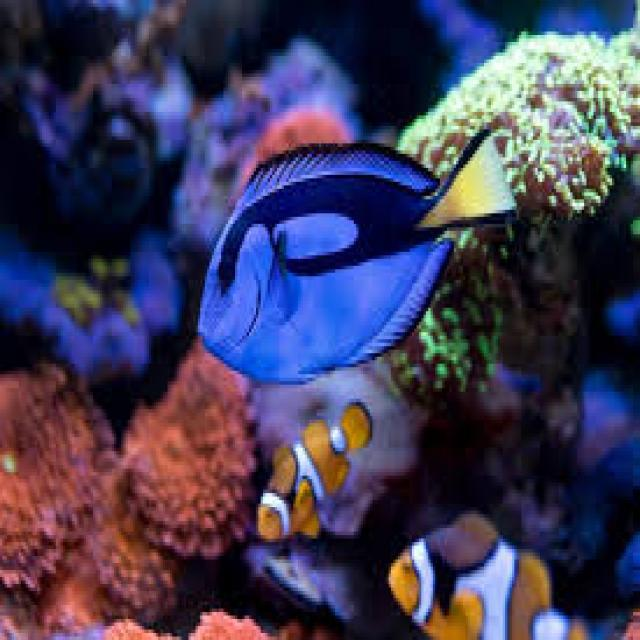BlueTang: (184, 114, 522, 401)
ClownFish: (391, 511, 583, 640), (261, 408, 375, 533)
